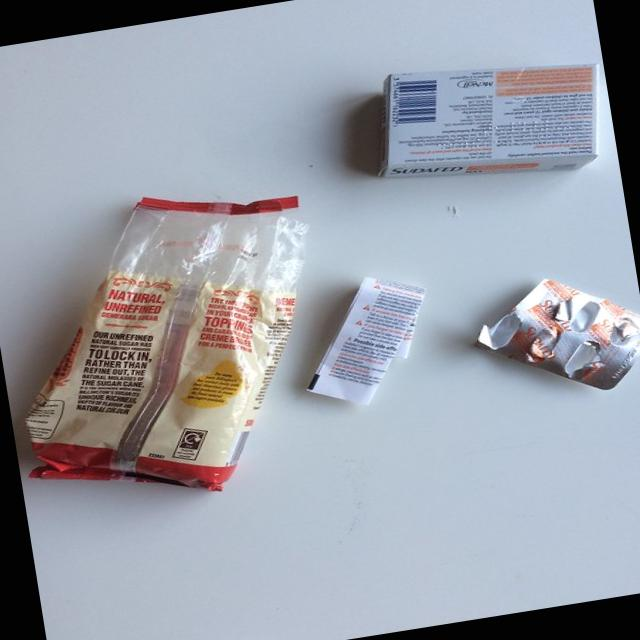Recycle: (372, 40, 612, 198), (301, 266, 436, 412)
Trash: (0, 172, 341, 523), (467, 262, 640, 410)
